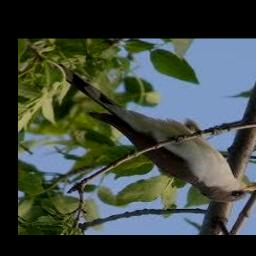Cuckoo: (52, 62, 256, 202)
